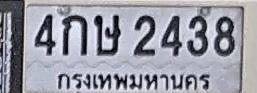2: (134, 14, 156, 56)
3: (187, 12, 208, 56)
4: (160, 14, 181, 56), (34, 13, 55, 55)
8: (214, 15, 234, 56)
A01: (61, 14, 87, 56)
A39: (94, 14, 121, 56)
BKK: (54, 69, 213, 93)
